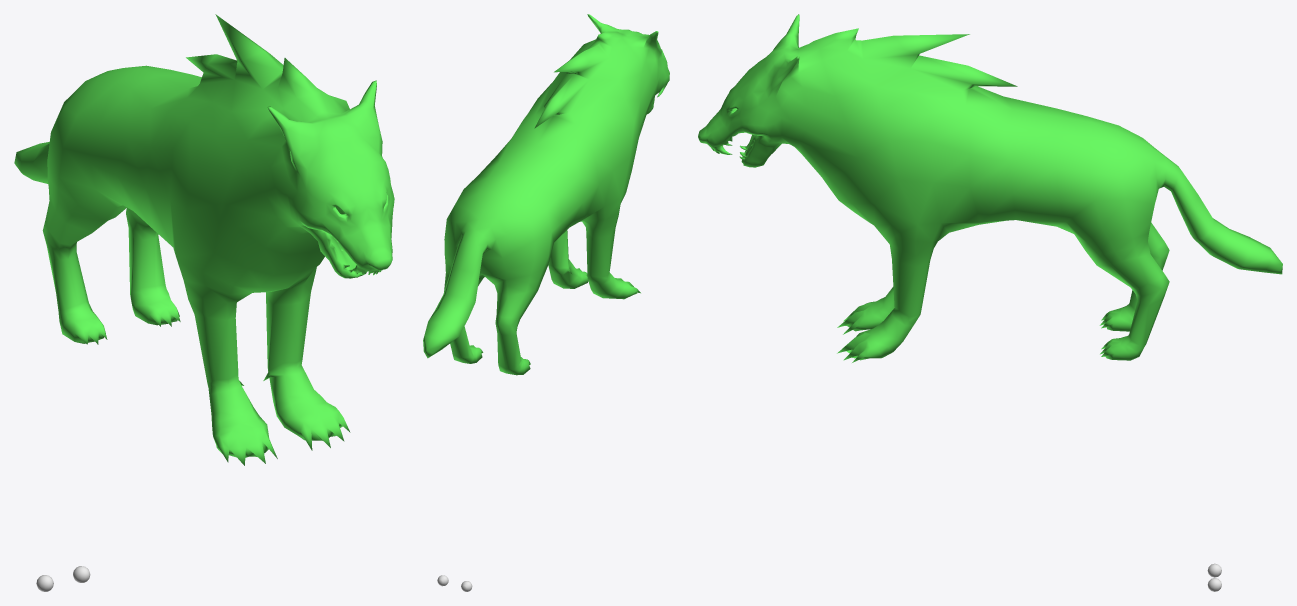
File: Wolf_Low.FBX
The picture shows the model from 3 angles, left to right: view 1: azimuth 30°, elevation 25°; view 2: azimuth 150°, elevation 25°; view 3: azimuth 270°, elevation 25°; orthographic projection. The views are drawn at different scales.
Visible parts, largest first — view 1: Body_Low001; view 2: Body_Low001; view 3: Body_Low001.
Boxes of the visible parts, left/top/right/bottom form: Body_Low001: left=14, top=14, right=394, bottom=465; Body_Low001: left=423, top=14, right=669, bottom=375; Body_Low001: left=698, top=14, right=1282, bottom=362.
Size of the model in its own units: 170 by 719 by 754.
